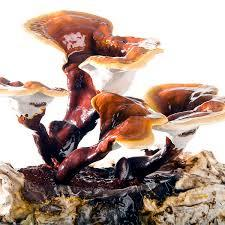Ganoderma - Fruit Body: (20, 6, 168, 72), (91, 93, 147, 152), (0, 72, 64, 103), (148, 80, 225, 103)
